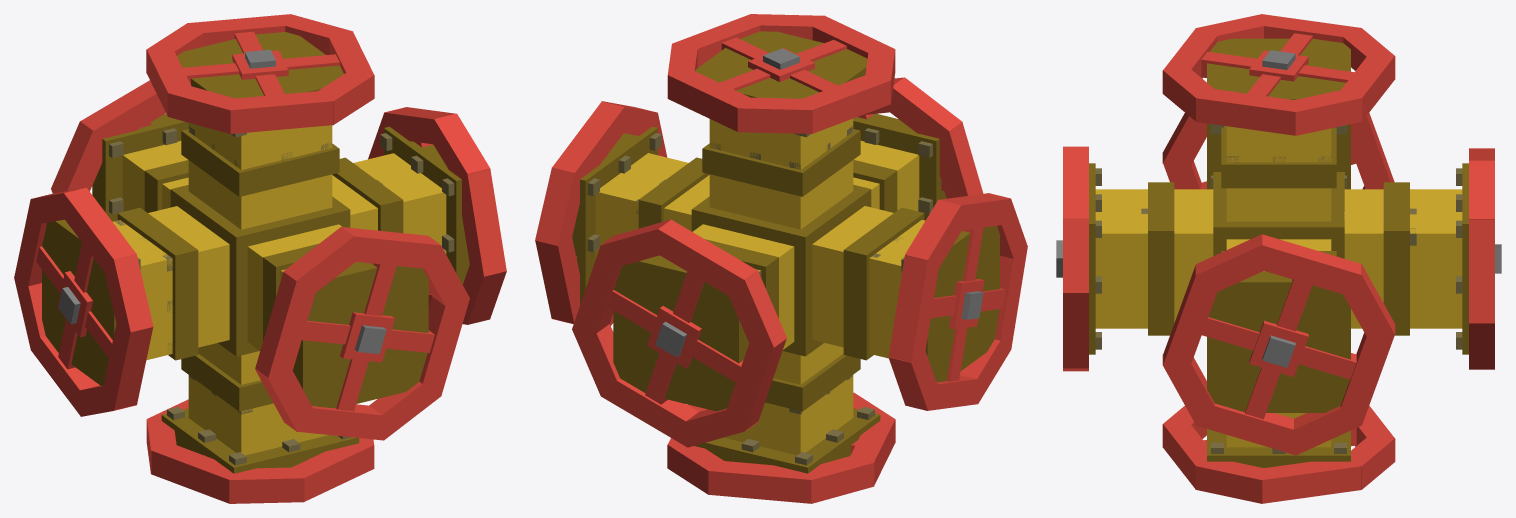
Rendered from steampipe.obj.
The picture shows the model from 3 angles, left to right: view 1: azimuth 30°, elevation 25°; view 2: azimuth 150°, elevation 25°; view 3: azimuth 270°, elevation 25°; orthographic projection.
Visible parts, largest first — view 1: valvez2, valvex2, valvey1, straighty, straightx, straightz, valvey2, valvex1, armz2, valvez1, center, army2 (+4 smaller); view 2: valvez1, valvex2, valvey1, straighty, straightz, straightx, valvey2, valvex1, armz1, armx2, valvez2, center (+3 smaller); view 3: valvex1, valvey1, straightz, straightx, valvez2, valvey2, valvez1, armz2, army1, straighty, valvex2, center (+3 smaller).
Part boxes in pixels (left/top/right/bottom): valvez2: left=255, top=226, right=469, bottom=440; valvex2: left=14, top=187, right=198, bottom=416; valvey1: left=146, top=14, right=374, bottom=196; straighty: left=161, top=32, right=359, bottom=467; straightx: left=42, top=126, right=469, bottom=375; straightz: left=92, top=113, right=428, bottom=400; valvey2: left=146, top=354, right=374, bottom=503; valvex1: left=332, top=107, right=506, bottom=324; armz2: left=248, top=241, right=418, bottom=408; valvez1: left=51, top=80, right=188, bottom=212; center: left=170, top=185, right=350, bottom=356; army2: left=166, top=343, right=356, bottom=473; valvez1: left=572, top=219, right=786, bottom=447; valvex2: left=843, top=193, right=1027, bottom=410; valvey1: left=667, top=14, right=895, bottom=196; straighty: left=694, top=31, right=880, bottom=473; straightz: left=613, top=113, right=946, bottom=411; straightx: left=572, top=126, right=999, bottom=382; valvey2: left=667, top=353, right=895, bottom=503; valvex1: left=535, top=101, right=709, bottom=325; armz1: left=613, top=228, right=794, bottom=410; armx2: left=812, top=206, right=927, bottom=358; valvez2: left=853, top=77, right=983, bottom=212; center: left=691, top=184, right=871, bottom=356; valvex1: left=1162, top=234, right=1395, bottom=455; valvey1: left=1162, top=14, right=1395, bottom=188; straightz: left=1089, top=163, right=1468, bottom=354; straightx: left=1207, top=123, right=1350, bottom=412; valvez2: left=1056, top=146, right=1174, bottom=371; valvey2: left=1162, top=405, right=1395, bottom=503; valvez1: left=1383, top=148, right=1501, bottom=369; armz2: left=1089, top=163, right=1213, bottom=354; army1: left=1226, top=126, right=1331, bottom=221; straighty: left=1207, top=38, right=1350, bottom=453; valvex2: left=1162, top=113, right=1394, bottom=189; center: left=1213, top=172, right=1344, bottom=258.
Bounding box in the file's own units: 1.06 × 1.06 × 1.06.
